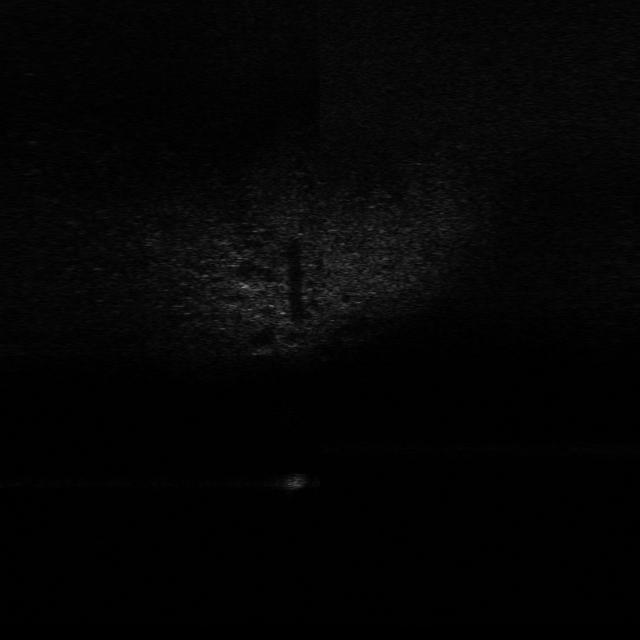cylinder: (280, 472, 306, 492)
